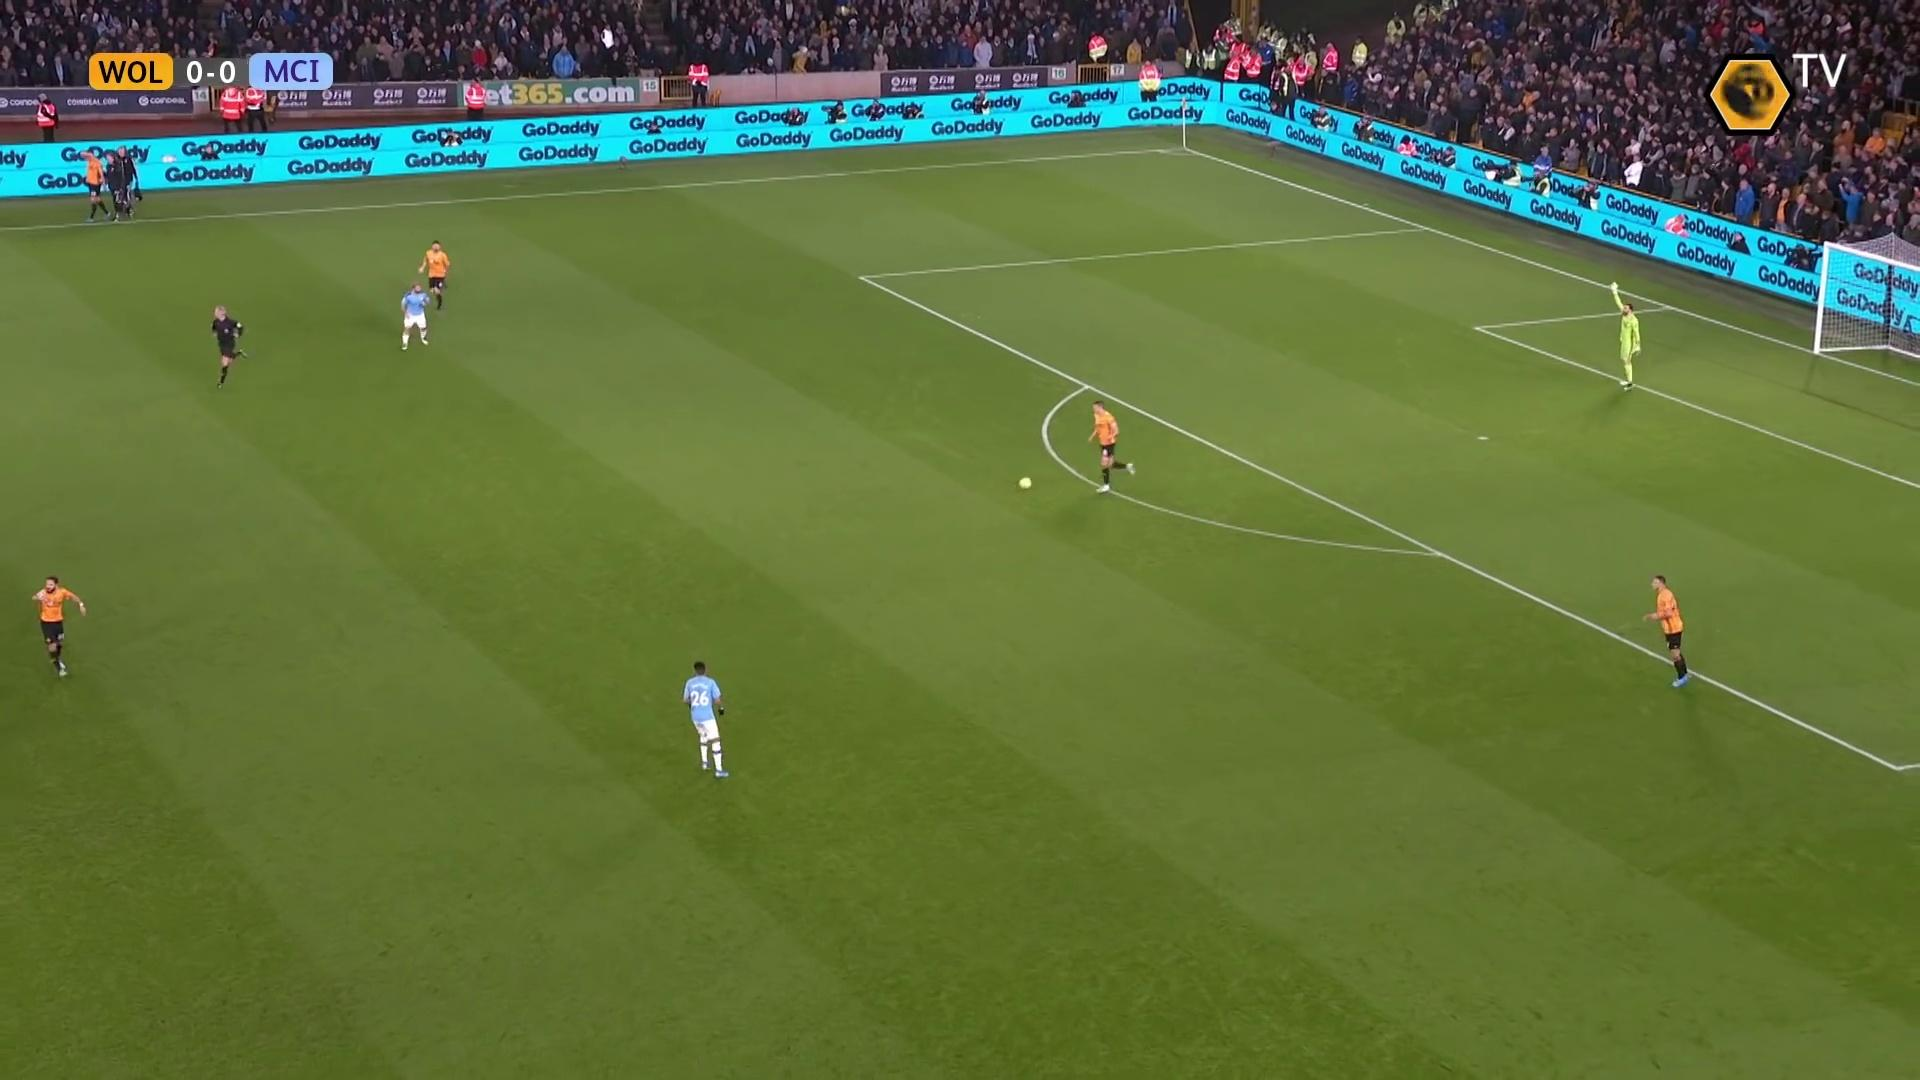ball: (1018, 476, 1033, 492)
